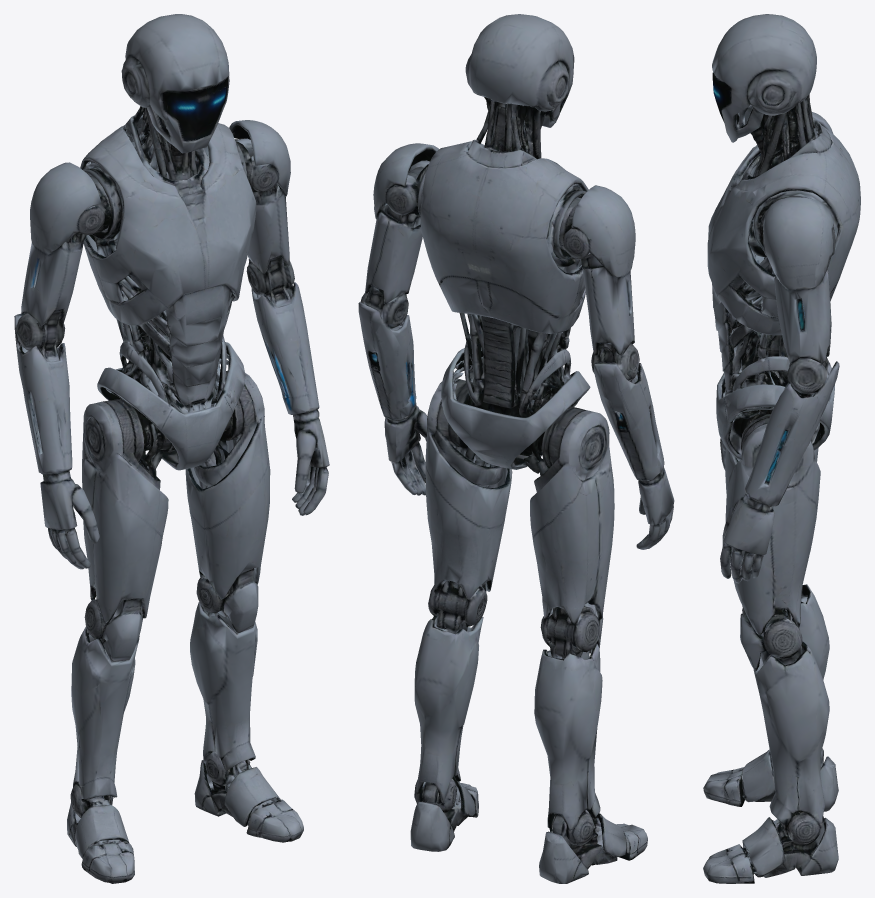
File: robot-b.glb
3 views of the same model, side by side, from view 1: azimuth 30°, elevation 25°; view 2: azimuth 150°, elevation 25°; view 3: azimuth 270°, elevation 25° (orthographic).
Size of the model in its own units: 0.6728 by 1.91 by 0.3339.
1 material, 1 textured.
